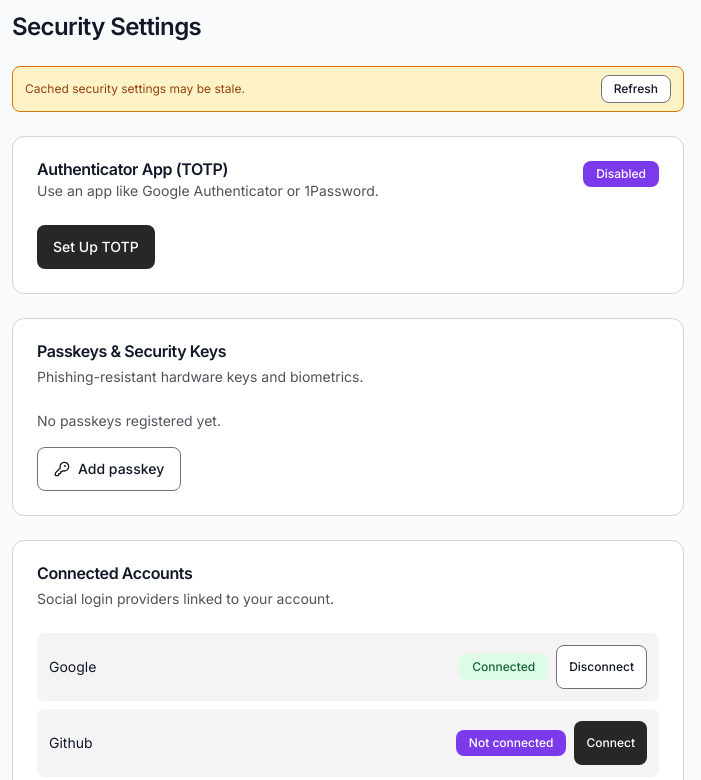
Test: SecurityPage › disconnects a linked OAuth provider after confirmation
The width and height of the screenshot is (701, 780).
Expected: the text "Connected Accounts" is shown, [37,563,192,583]
Click the button "Disconnect".
click(602, 667)  # box [556,645,647,689]
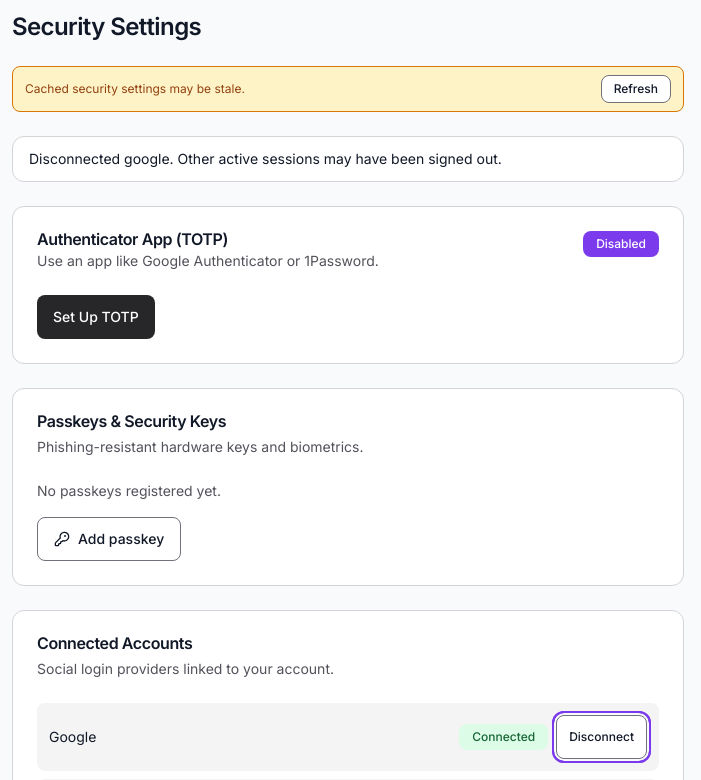
Result: the text "Disconnected google. Other active sessions may have been signed out." is shown at [29,150,502,167]
